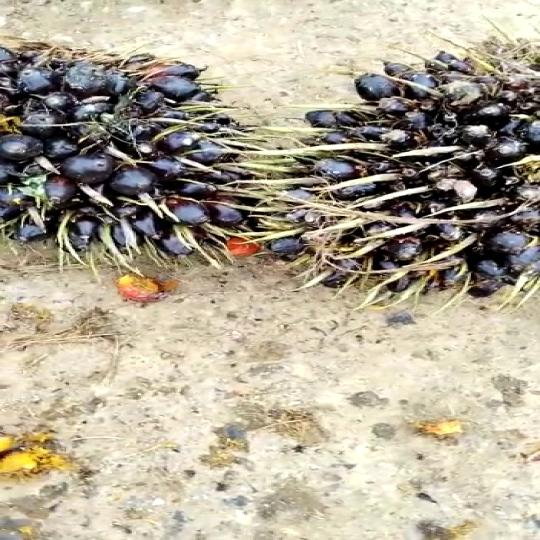mentah: (265, 42, 540, 301), (0, 30, 275, 285)
